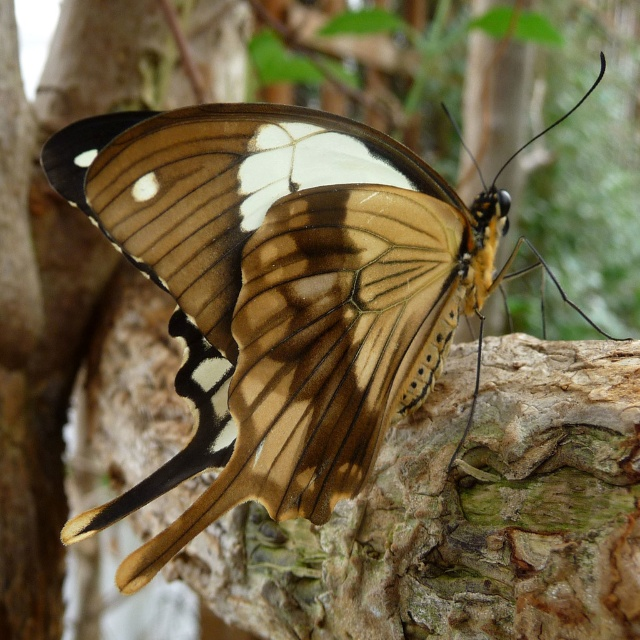Butterfly: (39, 52, 634, 593)
